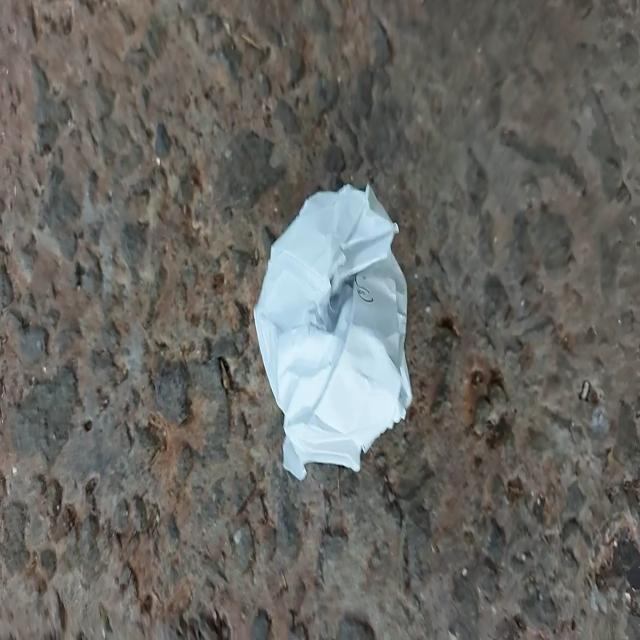Paper: (223, 165, 433, 486)
